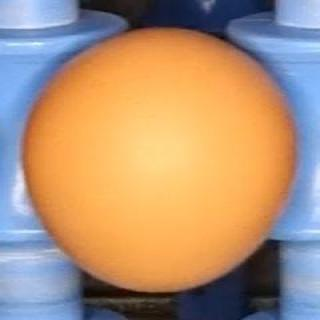Telur: (12, 25, 305, 297)
